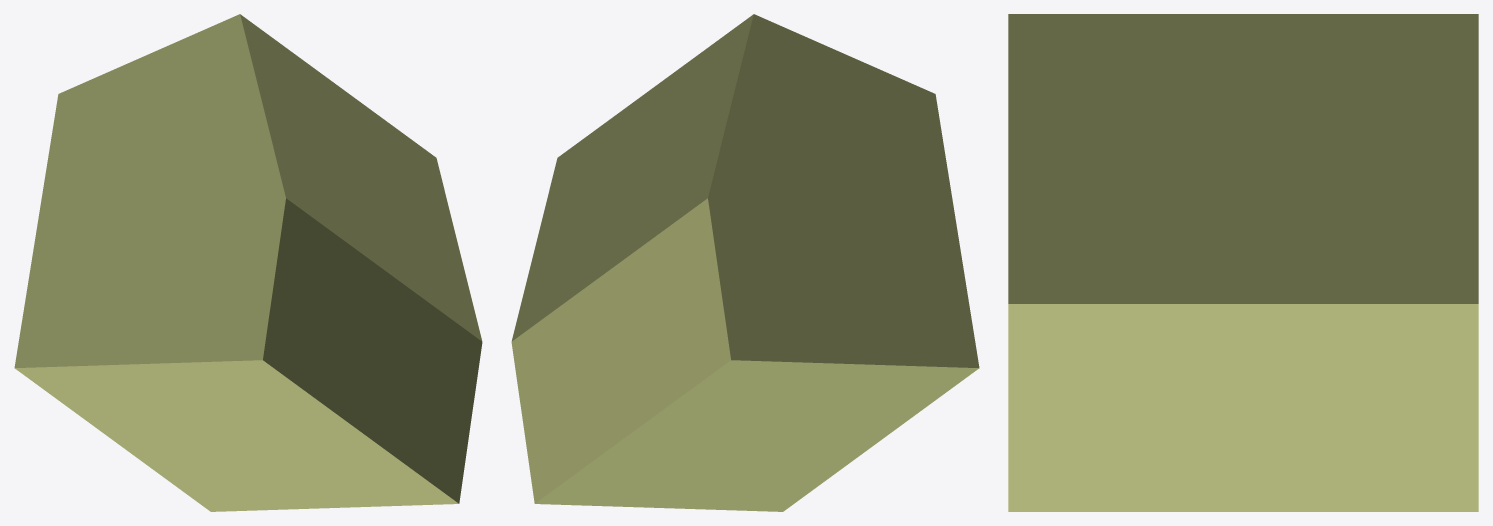
3 renders of one model, left to right at view 1: azimuth 30°, elevation 25°; view 2: azimuth 150°, elevation 25°; view 3: azimuth 270°, elevation 25°, orthographic. The views are drawn at different scales.
Visible parts, largest first — view 1: 0_1_0_1_3_3_3_3_2_2_2; view 2: 0_1_0_1_3_3_3_3_2_2_2; view 3: 0_1_0_1_3_3_3_3_2_2_2.
Part boxes in pixels (x1,y1,x2,y2): 0_1_0_1_3_3_3_3_2_2_2: (14, 14, 482, 511); 0_1_0_1_3_3_3_3_2_2_2: (511, 14, 979, 511); 0_1_0_1_3_3_3_3_2_2_2: (1008, 14, 1478, 511).
Size of the model in its own units: 7.18 by 8.89 by 9.
